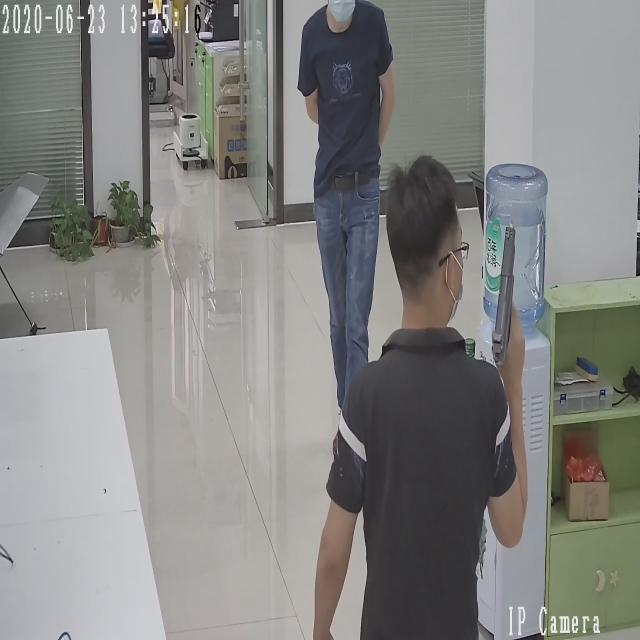gun-knife-thesis - v11 Yolov5 augmented: (491, 223, 529, 368)
